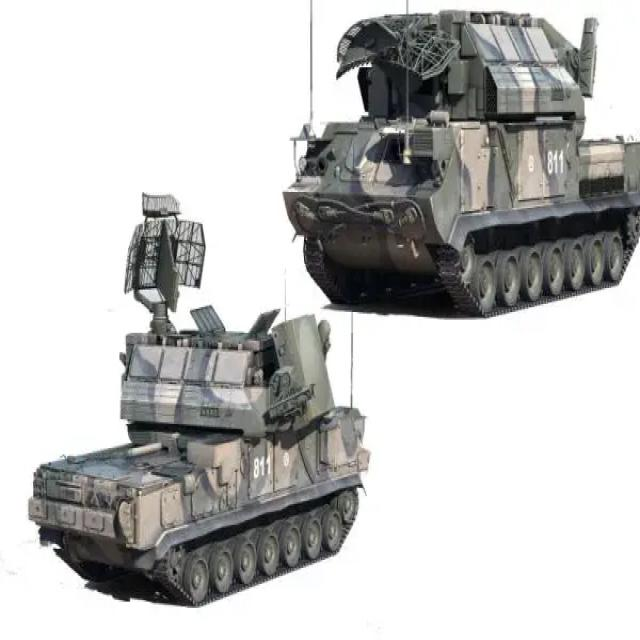MIL_EW_RDR: (32, 179, 360, 607), (288, 7, 637, 312)
